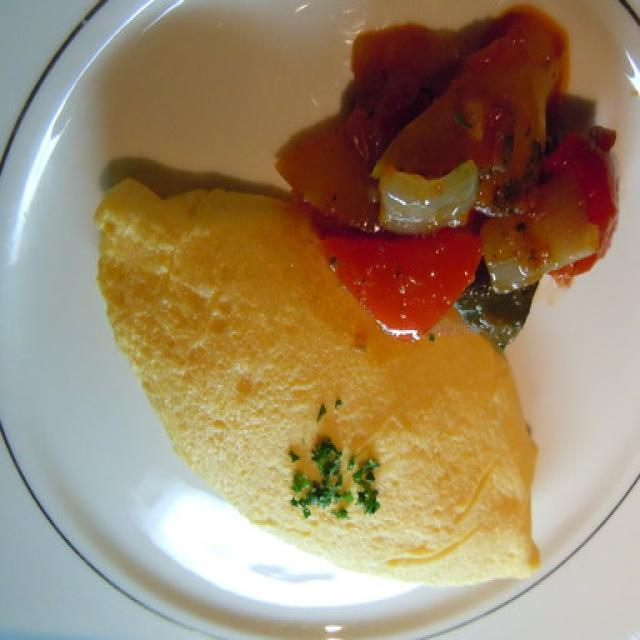telur_ayam_dadar: (92, 178, 542, 590)
